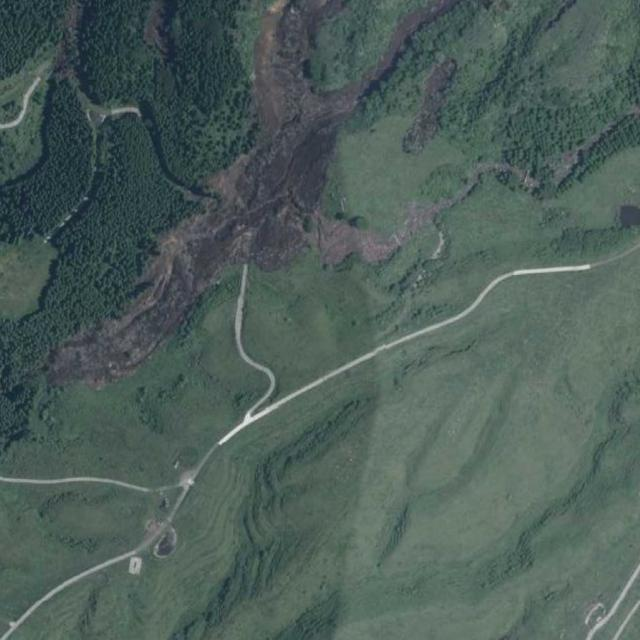landslide: (47, 0, 451, 385)
